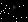person: (15, 5, 23, 15)
